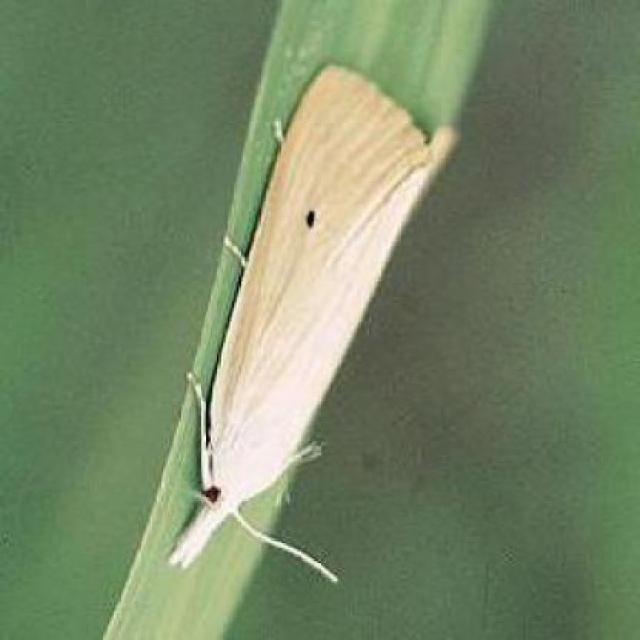stem-borer: (159, 60, 466, 586)
